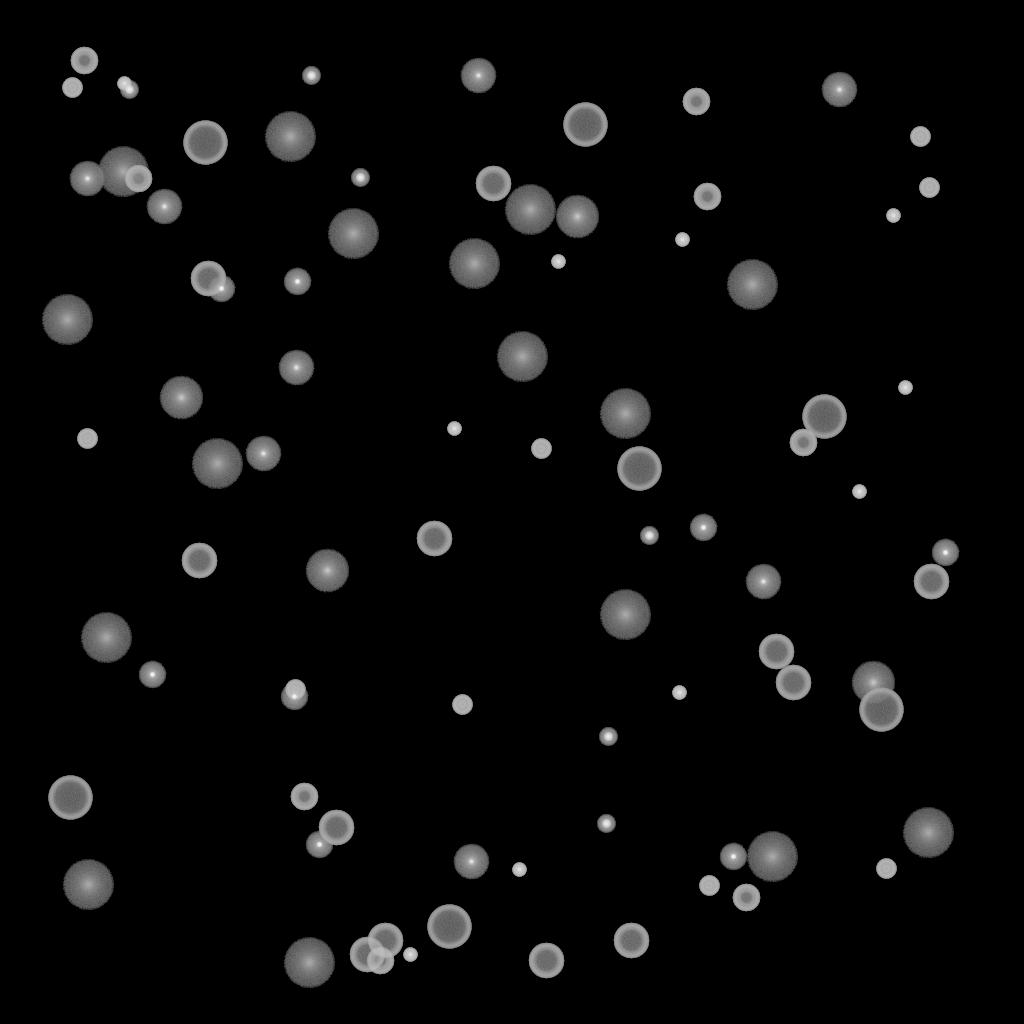depth:-10: (280, 683, 308, 711), (931, 539, 959, 567), (138, 661, 166, 689), (283, 268, 311, 296), (207, 275, 235, 303), (719, 843, 747, 871), (689, 514, 717, 542), (305, 831, 333, 859)
depth:-20: (640, 527, 658, 545), (597, 815, 615, 833), (120, 81, 138, 99), (351, 169, 369, 187), (599, 728, 617, 746), (302, 67, 320, 85)
depth:-30: (675, 233, 689, 247), (512, 863, 526, 877), (672, 686, 686, 700), (551, 255, 565, 269), (117, 77, 131, 91), (403, 948, 417, 962), (447, 422, 461, 436), (898, 381, 912, 395), (886, 209, 900, 223), (852, 485, 866, 499)
depth:-40: (531, 439, 551, 459), (699, 876, 719, 896), (910, 127, 930, 147), (452, 695, 472, 715), (876, 859, 896, 879), (919, 178, 939, 198), (285, 680, 305, 700), (62, 78, 82, 98), (77, 429, 97, 449)
depth:-50: (290, 783, 318, 811), (366, 947, 394, 975), (682, 88, 710, 116), (732, 884, 760, 912), (693, 183, 721, 211), (789, 429, 817, 457), (124, 165, 152, 193), (70, 47, 98, 75)
depth:-60: (475, 166, 511, 202), (613, 923, 649, 959), (367, 923, 403, 959), (528, 943, 564, 979), (318, 810, 354, 846), (758, 634, 794, 670), (416, 521, 452, 557), (775, 665, 811, 701), (181, 543, 217, 579), (190, 261, 226, 297), (349, 937, 385, 973), (913, 564, 949, 600)
depth:-70: (563, 103, 607, 147), (859, 688, 903, 732), (183, 121, 227, 165), (802, 395, 846, 439), (48, 776, 92, 820), (427, 905, 471, 949), (617, 447, 661, 491)
depth:0: (146, 189, 182, 225), (69, 161, 105, 197), (821, 72, 857, 108), (245, 436, 281, 472), (453, 844, 489, 880), (460, 58, 496, 94), (745, 564, 781, 600), (278, 350, 314, 386)
depth:10: (555, 195, 599, 239), (159, 376, 203, 420), (305, 549, 349, 593), (851, 661, 895, 705)
depth:20: (448, 239, 500, 289), (599, 590, 651, 640), (264, 112, 316, 162), (80, 613, 132, 663), (41, 295, 93, 345), (62, 860, 114, 910), (746, 832, 798, 882), (726, 260, 778, 310), (327, 209, 379, 259), (496, 332, 548, 382), (191, 439, 243, 489), (283, 938, 335, 988), (902, 808, 954, 858), (504, 185, 556, 235), (599, 389, 651, 439), (97, 147, 149, 197)
